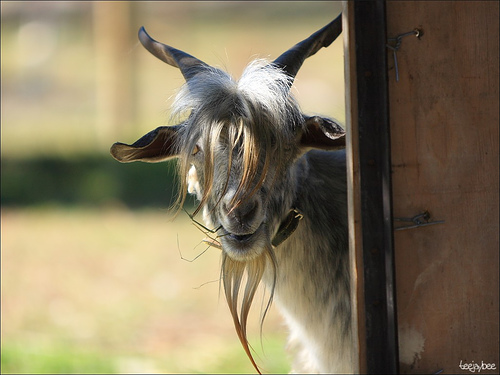goat: (109, 11, 355, 375)
